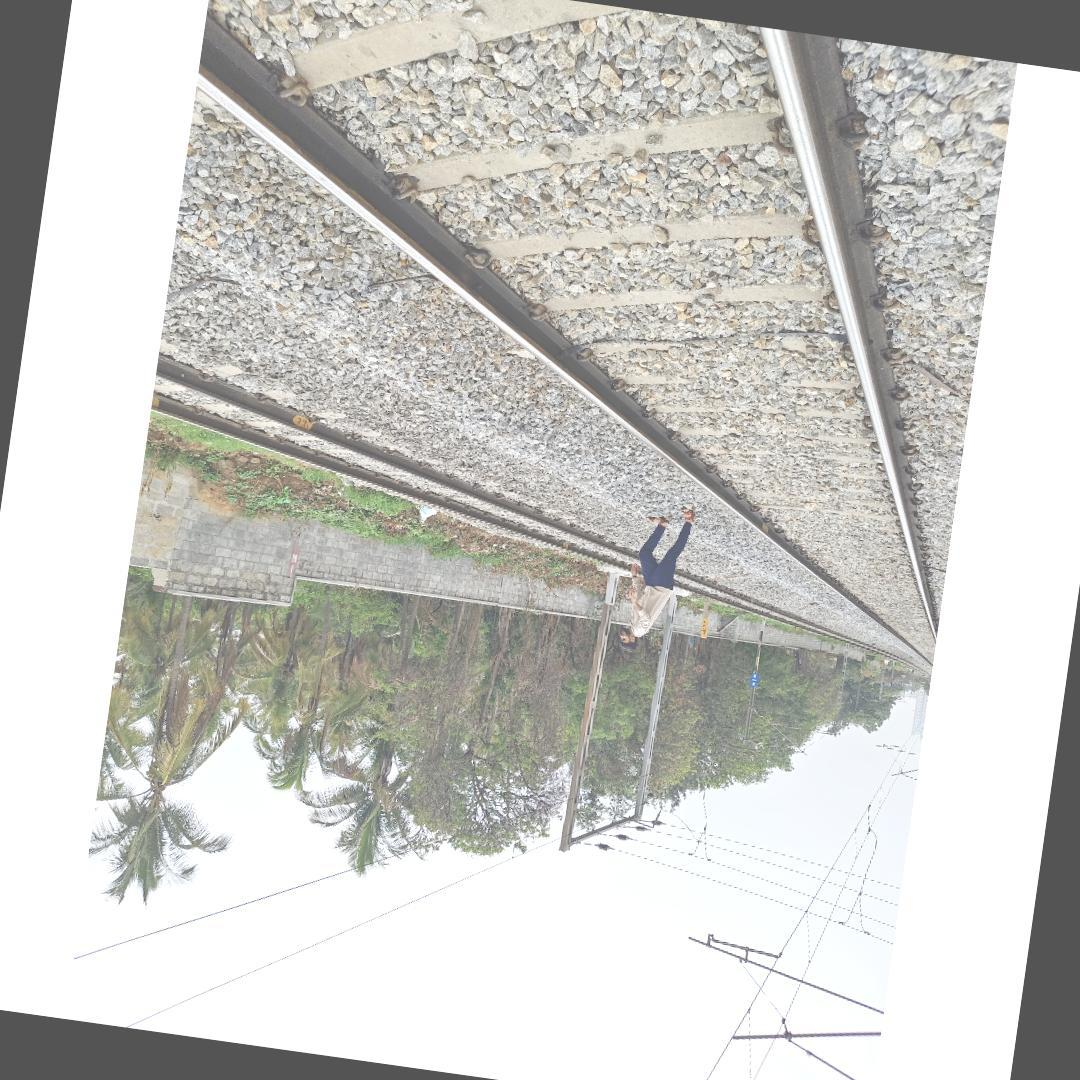standing: (612, 498, 696, 658)
track: (185, 0, 941, 677)
